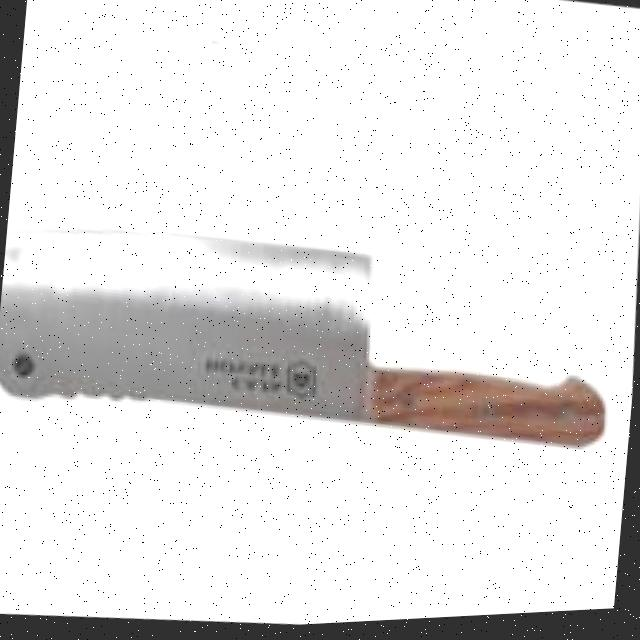knife: (0, 197, 619, 483)
